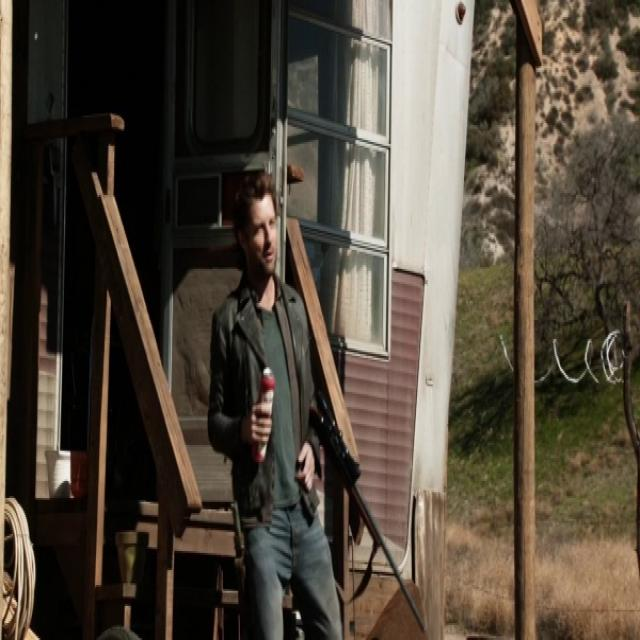rifle: (308, 398, 428, 637)
